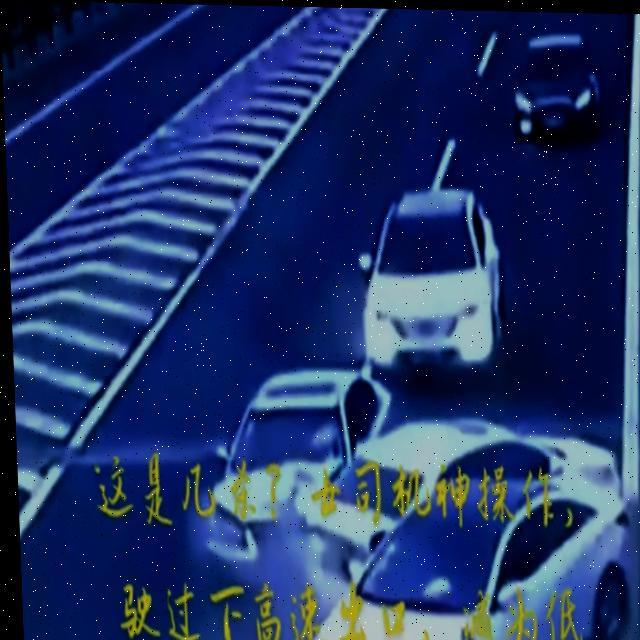multiple_accident: (220, 349, 527, 560)
normal: (370, 184, 501, 374), (520, 36, 594, 139)
